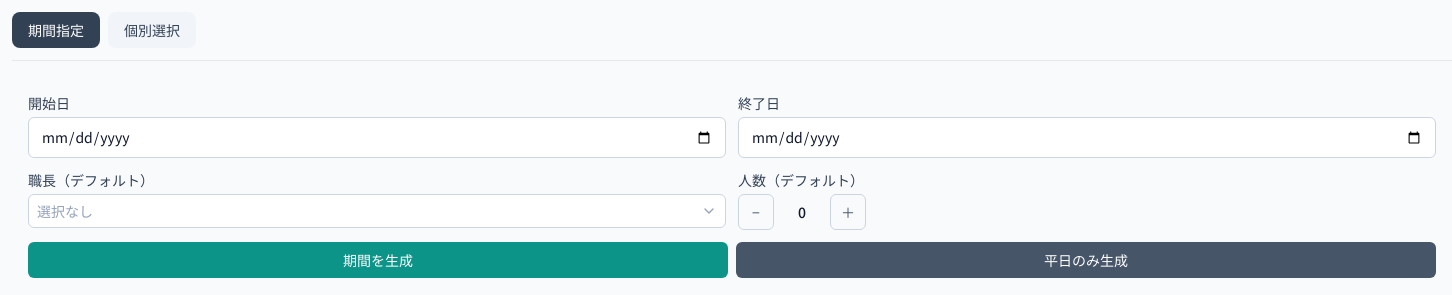
MultiDayScheduleEditor › should switch to individual mode
This screenshot has width=1452, height=295.
Click the button "個別選択" at (152, 30), box [108,12,196,48]
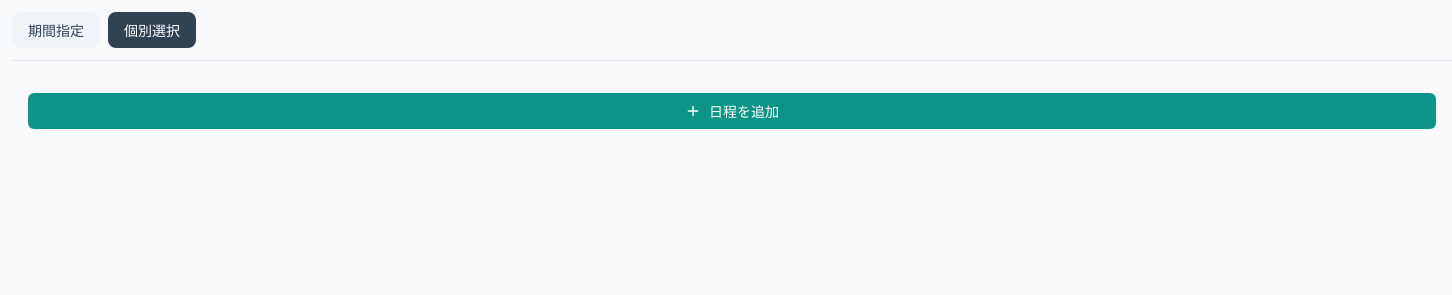
expect the button "日程を追加" is shown: met, box [28,93,1436,129]
expect the button "期間を生成" is gone: met
